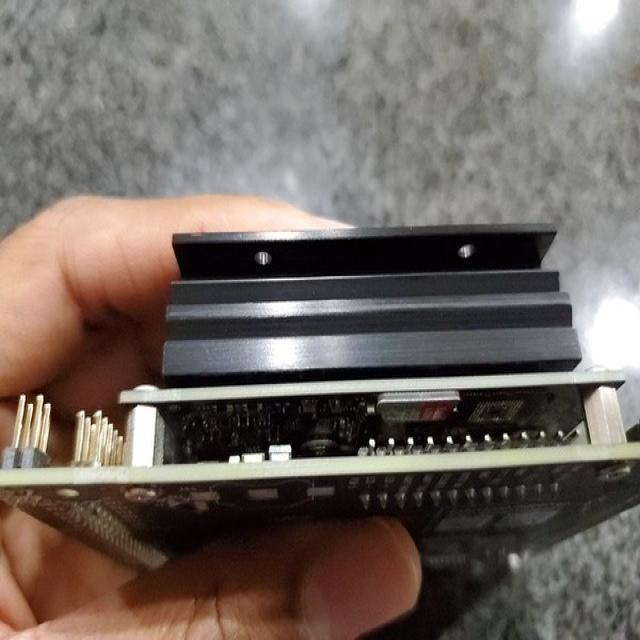Jetson Nano: (1, 223, 640, 575)
